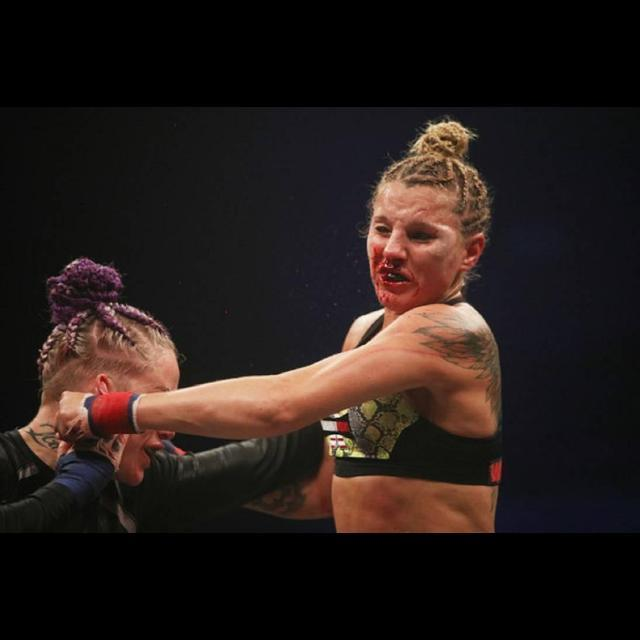blood: (368, 236, 431, 315)
